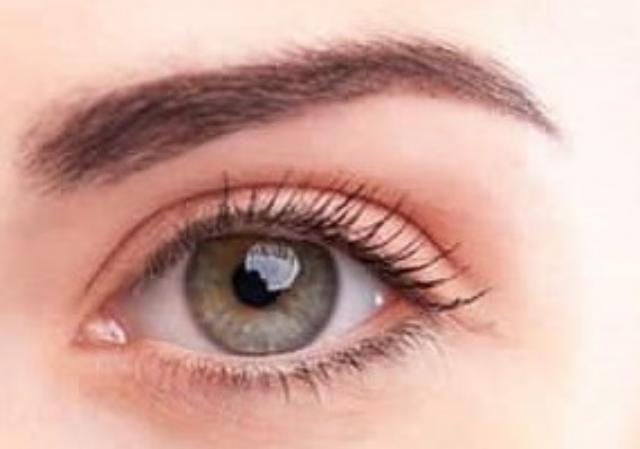eye: (185, 220, 343, 358)
